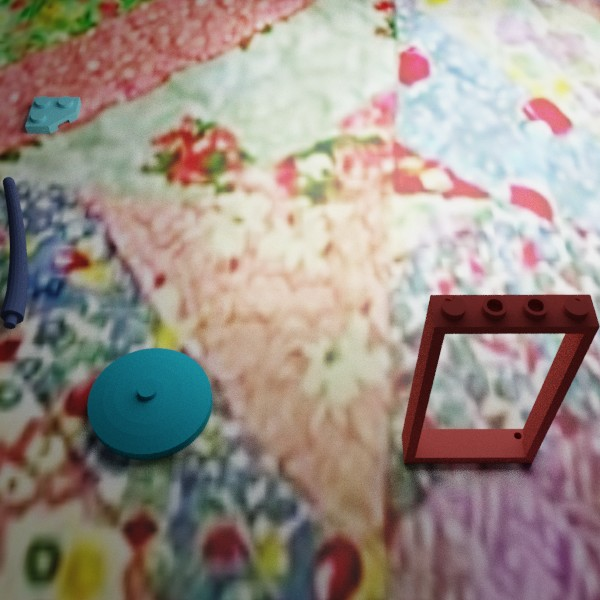lego: (401, 294, 599, 463), (87, 347, 212, 460), (0, 176, 27, 329), (25, 96, 81, 133)
